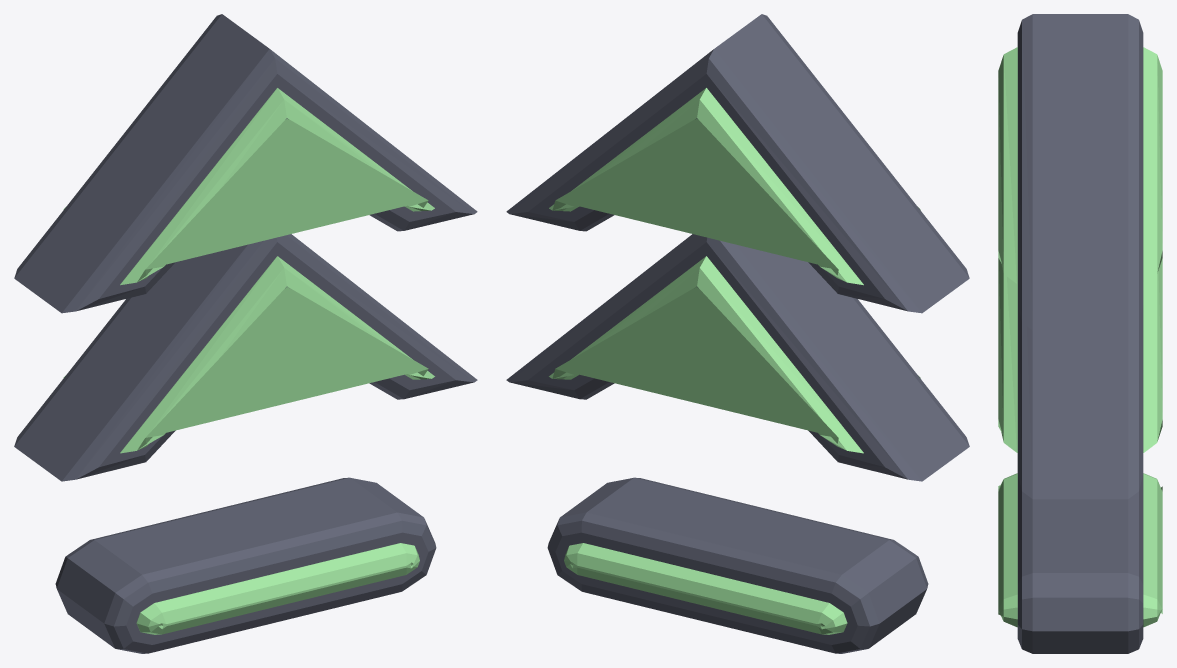
File: game-ui-icon-library-buff-arrow-up-f771f464__18989.glb
3 views of the same model, side by side, from view 1: azimuth 30°, elevation 25°; view 2: azimuth 150°, elevation 25°; view 3: azimuth 270°, elevation 25° (orthographic).
Visible parts, largest first — view 1: buff-arrow-up; view 2: buff-arrow-up; view 3: buff-arrow-up.
Boxes of the visible parts, bbox=[...] form: buff-arrow-up: bbox=[14, 14, 477, 653]; buff-arrow-up: bbox=[506, 14, 969, 653]; buff-arrow-up: bbox=[998, 14, 1162, 653].
Size of the model in its own units: 0.7131 by 0.94 by 0.2431.
